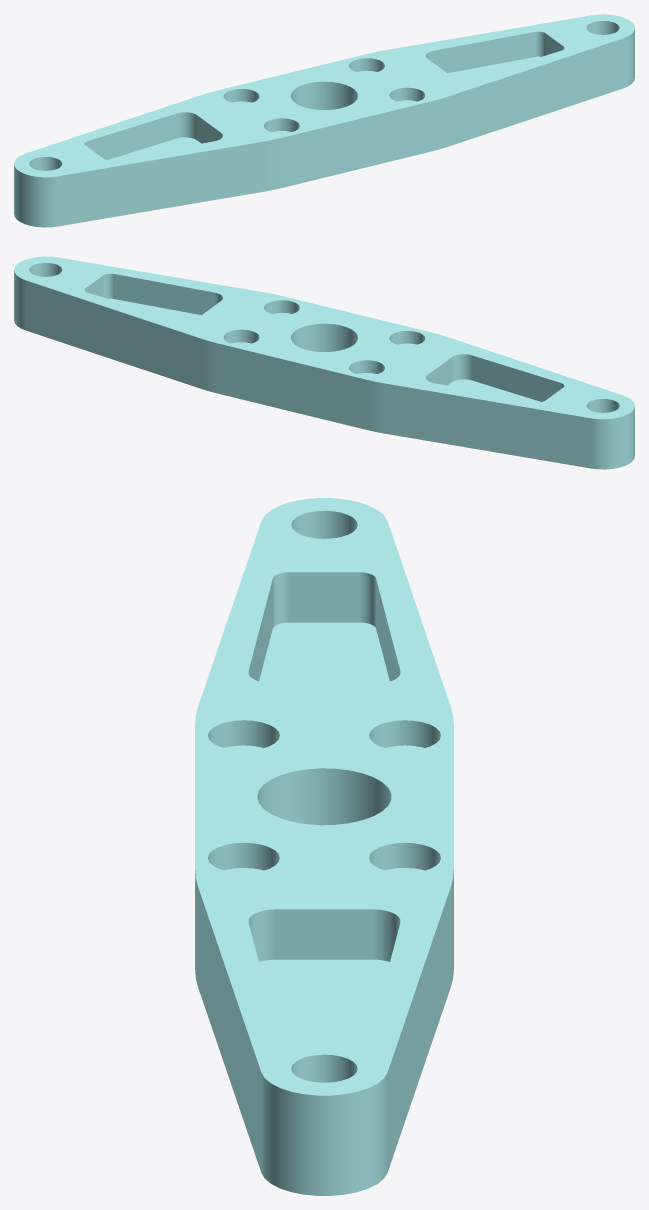
The model's file is 阶梯剖3.glb.
3 views of the same model, one above another, from view 1: azimuth 30°, elevation 25°; view 2: azimuth 150°, elevation 25°; view 3: azimuth 270°, elevation 25° (orthographic). The views are drawn at different scales.
Parts seen in each view (by area): view 1: 阶梯剖3.SLDPRT; view 2: 阶梯剖3.SLDPRT; view 3: 阶梯剖3.SLDPRT.
Boxes of the visible parts, <box> form: 阶梯剖3.SLDPRT: <box>14,14,634,227</box>; 阶梯剖3.SLDPRT: <box>14,256,634,469</box>; 阶梯剖3.SLDPRT: <box>195,498,453,1195</box>.
Size of the model in its own units: 0.5102 by 0.04 by 0.0934.
